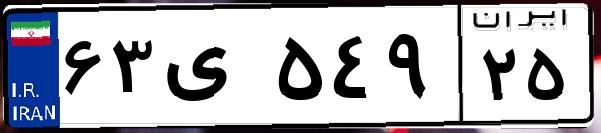2: (475, 38, 525, 113)
3: (110, 28, 158, 98)
4: (330, 28, 385, 110)
5: (270, 28, 330, 110), (525, 38, 570, 115)
6: (57, 26, 110, 100)
9: (385, 28, 445, 110)
ی: (158, 20, 270, 120)
